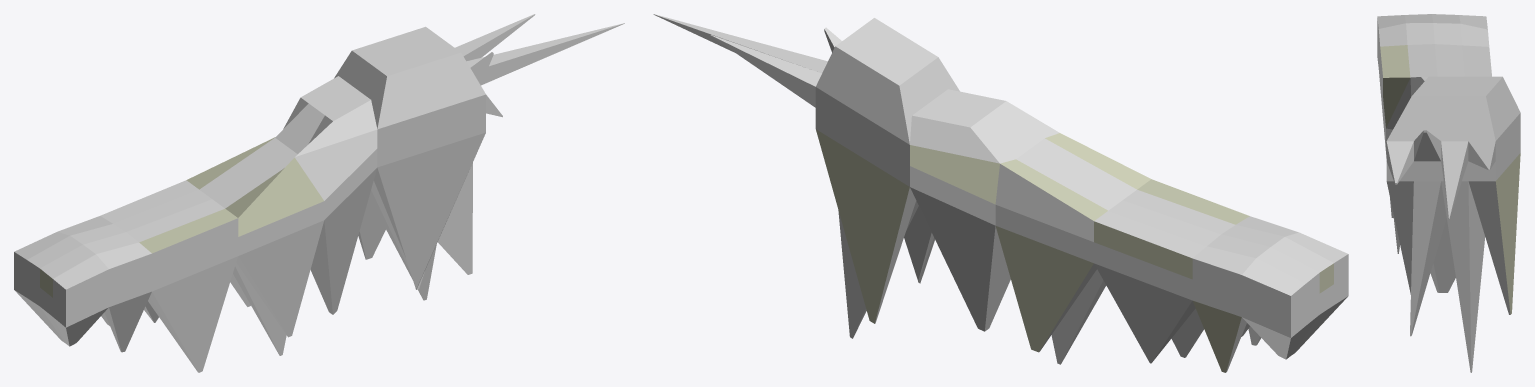
File: Plataforma04.fbx
The picture shows the model from 3 angles, left to right: view 1: azimuth 30°, elevation 25°; view 2: azimuth 150°, elevation 25°; view 3: azimuth 270°, elevation 25°; orthographic projection. The views are drawn at different scales.
Visible parts, largest first — view 1: Cube; view 2: Cube; view 3: Cube.
Part boxes in pixels (x1=…): Cube: x1=14, y1=14, x2=624, y2=372; Cube: x1=653, y1=14, x2=1348, y2=372; Cube: x1=1377, y1=14, x2=1520, y2=372.
Size of the model in its own units: 1320 by 567 by 263.
